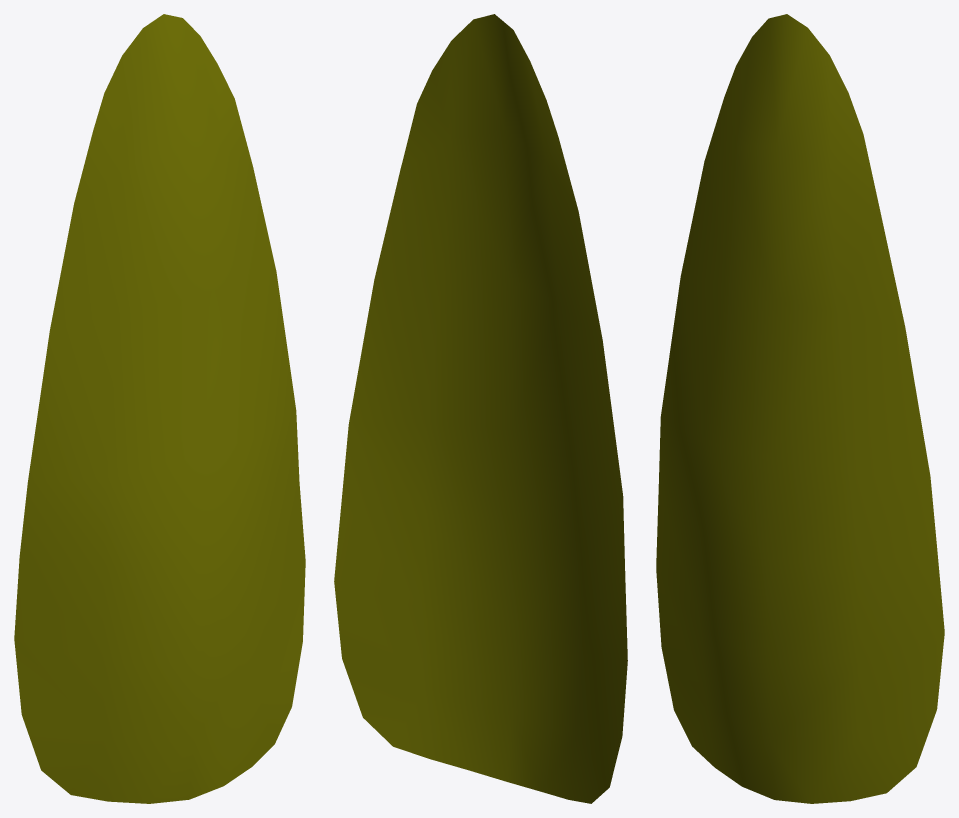
File: MD_nail_point_HandL.Thumb.fbx
3 renders of one model, left to right at view 1: azimuth 30°, elevation 25°; view 2: azimuth 150°, elevation 25°; view 3: azimuth 330°, elevation 25°, orthographic.
Parts seen in each view (by area): view 1: MD_nail_point_HandL.Thumb; view 2: MD_nail_point_HandL.Thumb; view 3: MD_nail_point_HandL.Thumb.
Part boxes in pixels (x1,y1,x2,y2): MD_nail_point_HandL.Thumb: (14,14,305,803); MD_nail_point_HandL.Thumb: (334,14,627,803); MD_nail_point_HandL.Thumb: (656,14,944,803).
Size of the model in its own units: 0.9338 by 2.37 by 0.1994.
